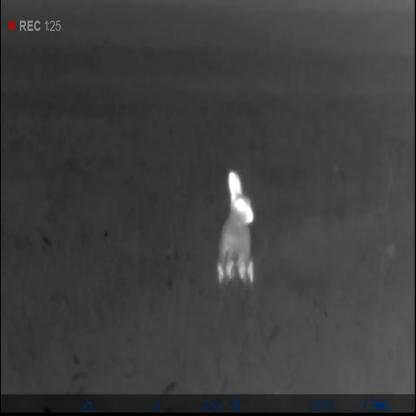rehkitze: (216, 168, 260, 292)
